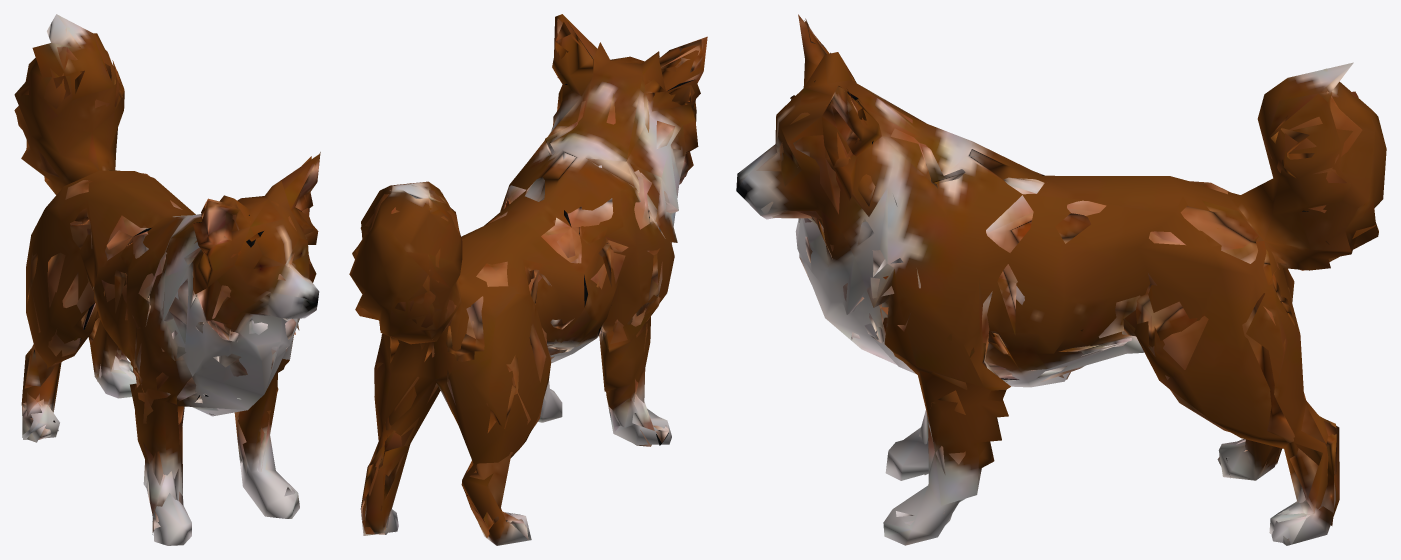
The model's file is detail_4_lo2.glb.
3 views of the same model, side by side, from view 1: azimuth 30°, elevation 25°; view 2: azimuth 150°, elevation 25°; view 3: azimuth 270°, elevation 25° (orthographic). The views are drawn at different scales.
Visible parts, largest first — view 1: Mesh_0.001; view 2: Mesh_0.001; view 3: Mesh_0.001.
Boxes of the visible parts, left/top/right/bottom form: Mesh_0.001: left=14, top=14, right=320, bottom=545; Mesh_0.001: left=349, top=14, right=707, bottom=545; Mesh_0.001: left=736, top=14, right=1386, bottom=545.
Size of the model in its own units: 0.3273 by 0.7654 by 0.9895.
Materials: 1 (1 with a texture image).
